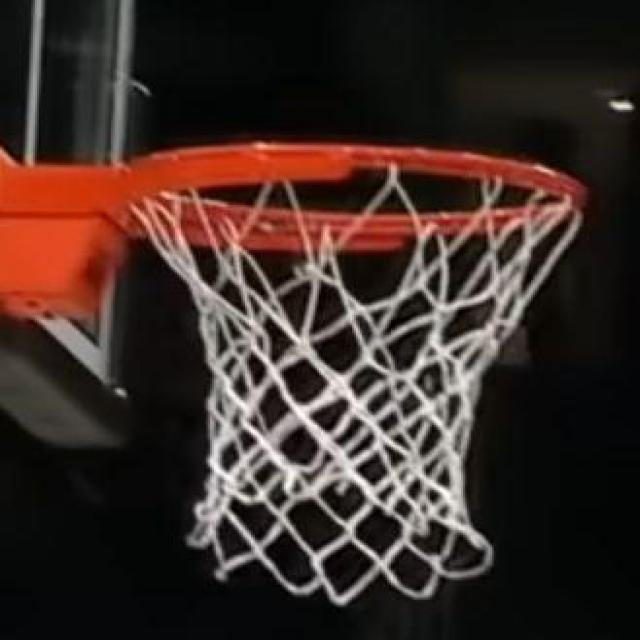hoop: (88, 108, 620, 606)
